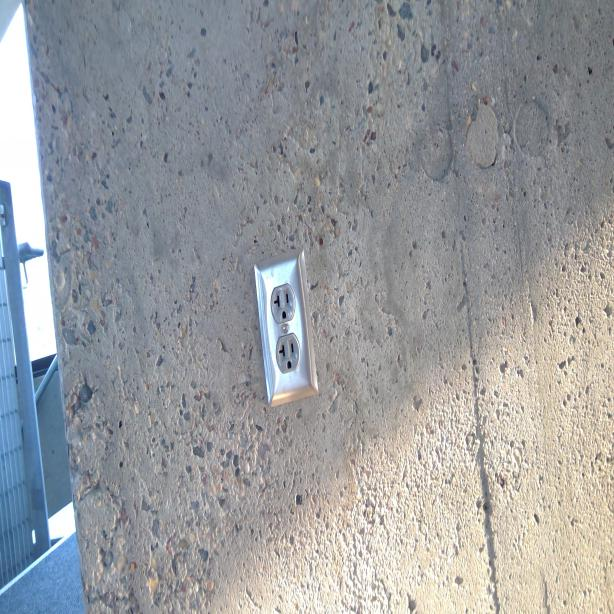typeb: (270, 286, 296, 324), (276, 338, 299, 376)
